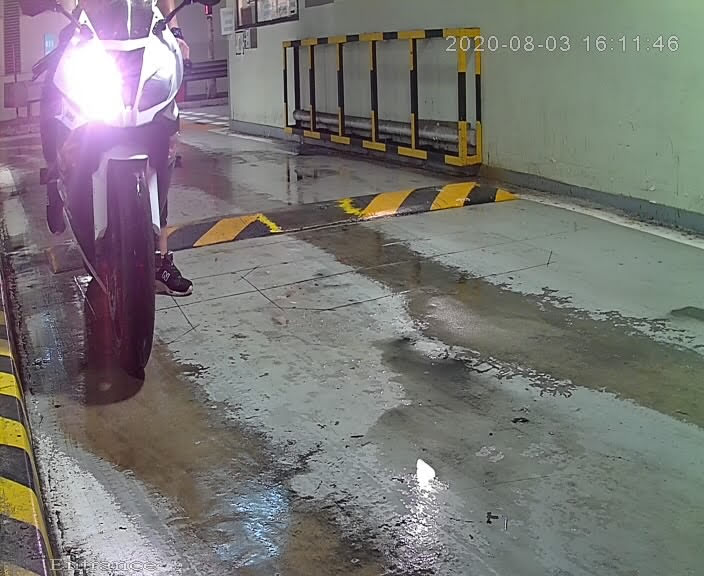motorcycle: (22, 1, 202, 381)
